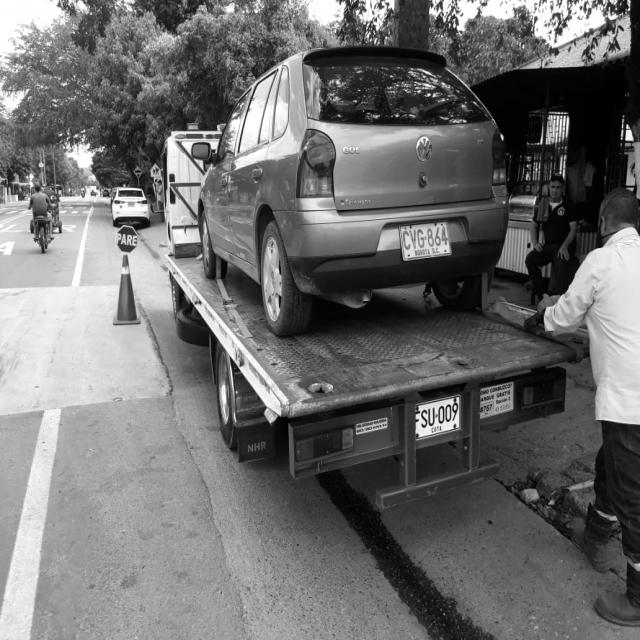plate: (396, 216, 454, 266)
